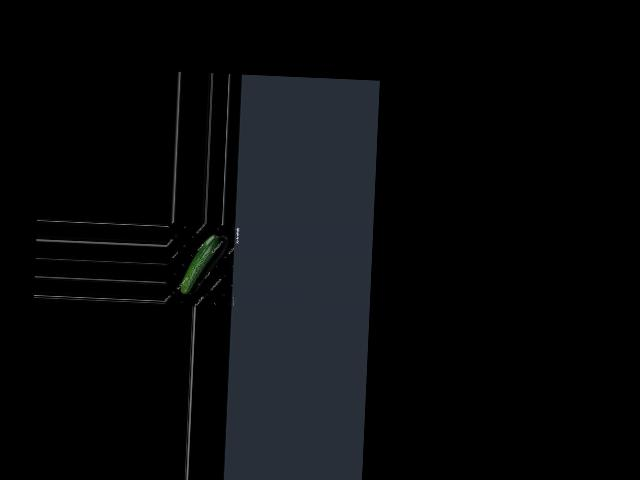cucumber: (180, 233, 220, 296)
